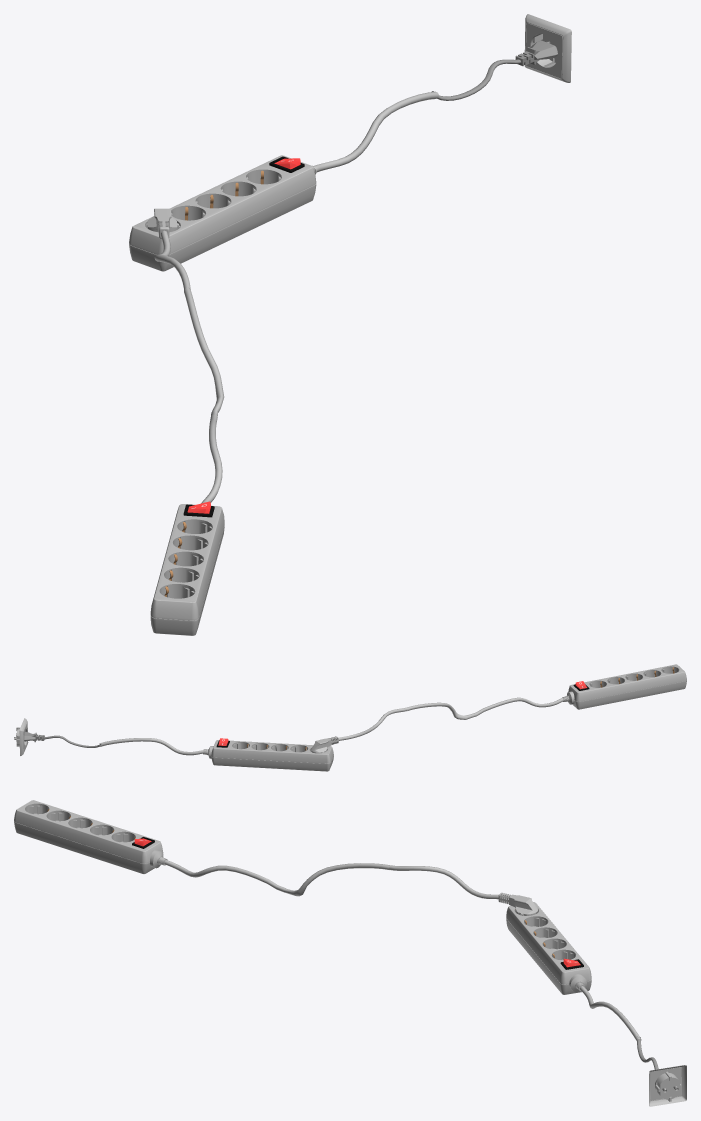
The model's file is powerStrip.glb.
The picture shows the model from 3 angles, top to bottom: view 1: azimuth 30°, elevation 25°; view 2: azimuth 150°, elevation 25°; view 3: azimuth 270°, elevation 25°; orthographic projection. The views are drawn at different scales.
Visible parts, largest first — view 1: connector strip_white_0.002; view 2: connector strip_white_0.002; view 3: connector strip_white_0.002.
Boxes of the visible parts, x1,y1,x2,y2 form: connector strip_white_0.002: (129, 14, 571, 635); connector strip_white_0.002: (14, 664, 686, 771); connector strip_white_0.002: (14, 800, 686, 1106).
Bounding box in the file's own units: 1.11 × 0.1088 × 1.08.
8 materials, 1 textured.
